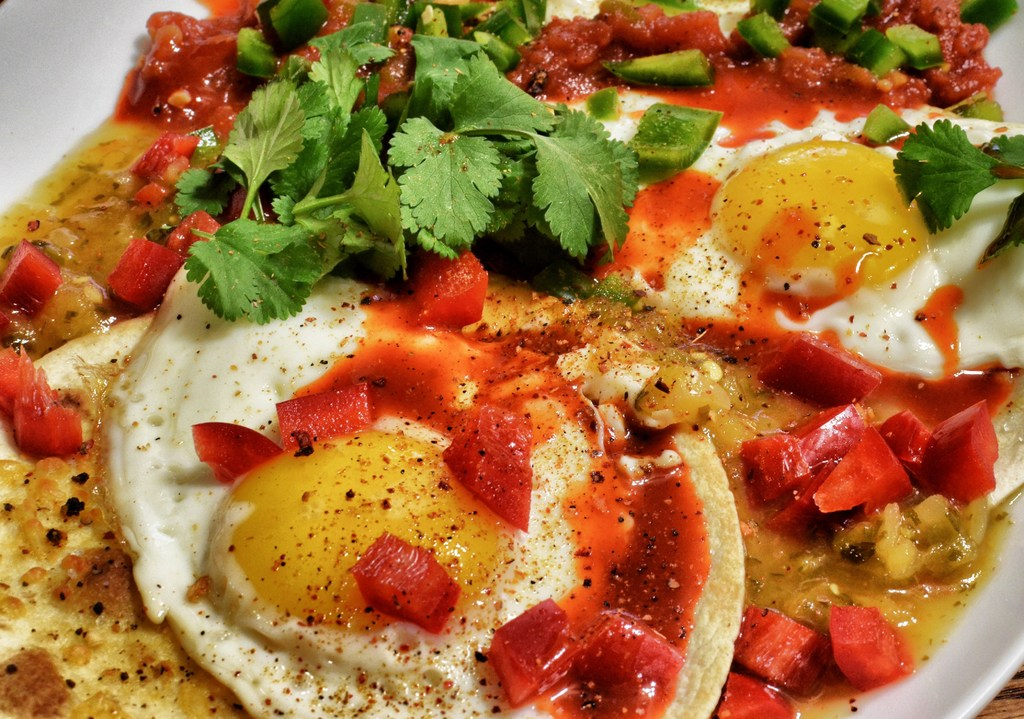Tomato: (351, 532, 461, 642), (437, 427, 529, 535), (486, 599, 577, 705), (809, 427, 907, 521), (923, 396, 997, 501), (273, 383, 377, 454), (405, 249, 490, 321), (192, 422, 277, 490), (104, 238, 188, 301), (0, 238, 57, 308)
